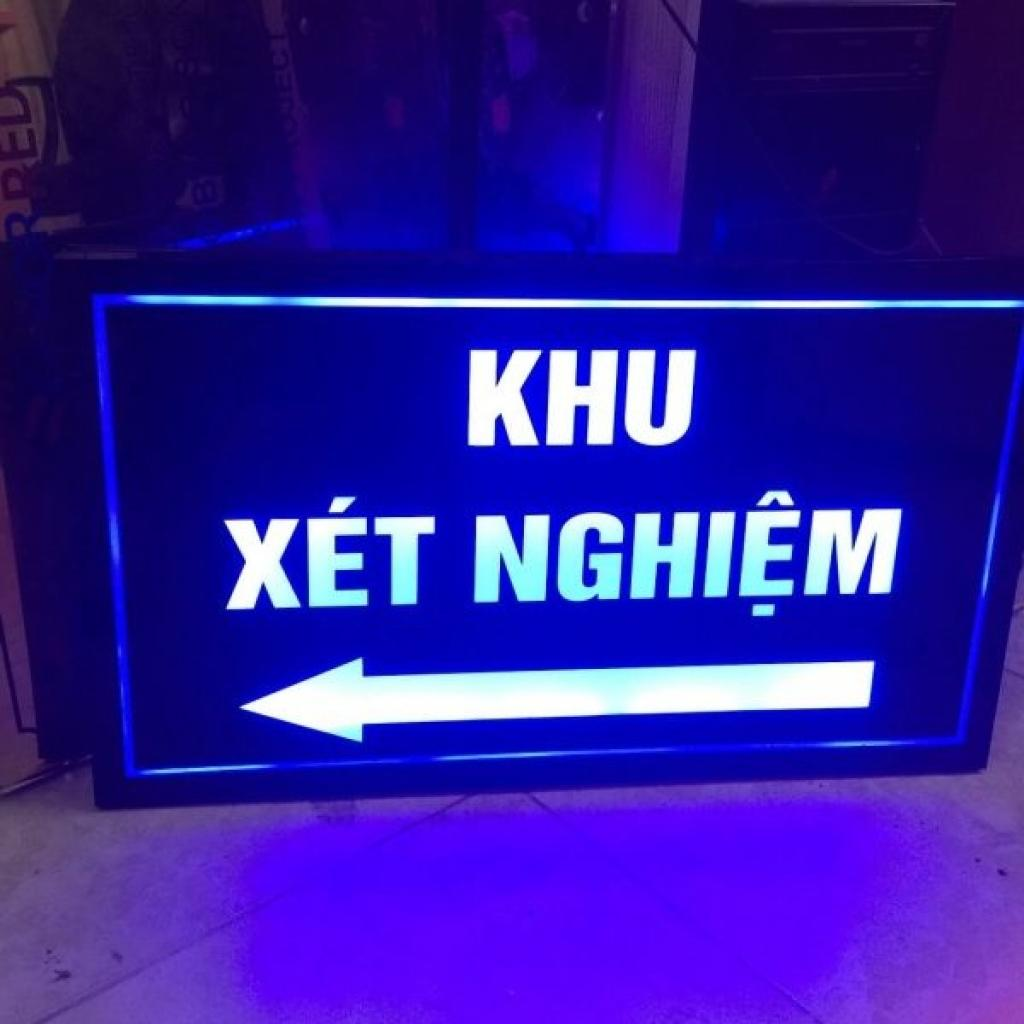text: (449, 338, 715, 461), (208, 486, 449, 620)
